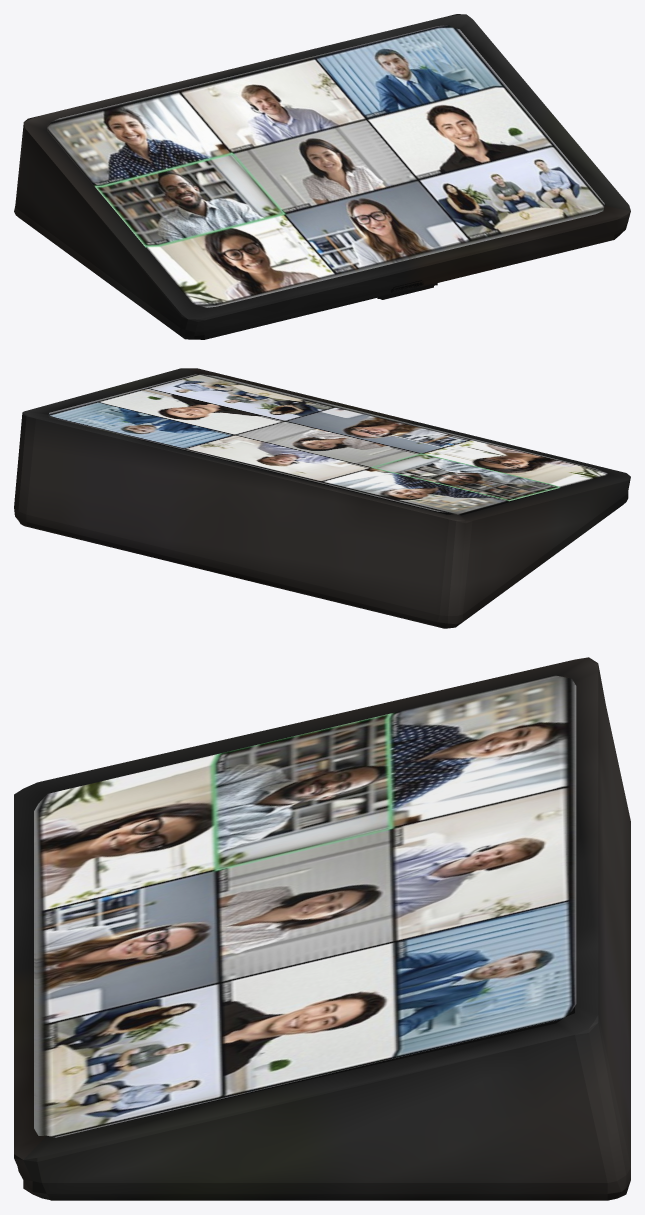
Rendered from Small_TapIP.glb.
3 renders of one model, top to bottom at view 1: azimuth 30°, elevation 25°; view 2: azimuth 150°, elevation 25°; view 3: azimuth 270°, elevation 25°, orthographic. The views are drawn at different scales.
Parts seen in each view (by area): view 1: Small_TapIP; view 2: Small_TapIP; view 3: Small_TapIP.
Part boxes in pixels (x1,y1,x2,y2): Small_TapIP: (14,14,630,339); Small_TapIP: (14,368,630,628); Small_TapIP: (14,657,630,1200).
Size of the model in its own units: 0.2455 by 0.0556 by 0.1706.
2 materials, 2 textured.
